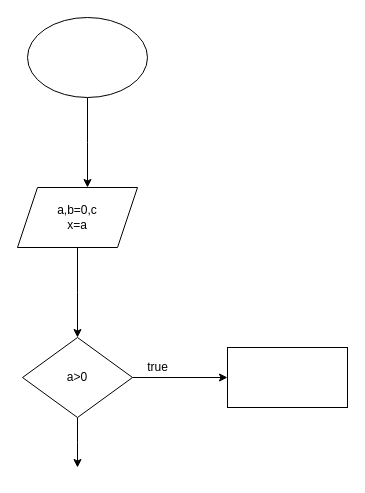
Some shapes in this 365 by 493 pixel diagram are drawn without their labels. The centre of each missing label's shape, as x and y in pixels:
c=a%10 b=b*10+c a=(a-c)/10: the point at 287,377
start: the point at 87,57
